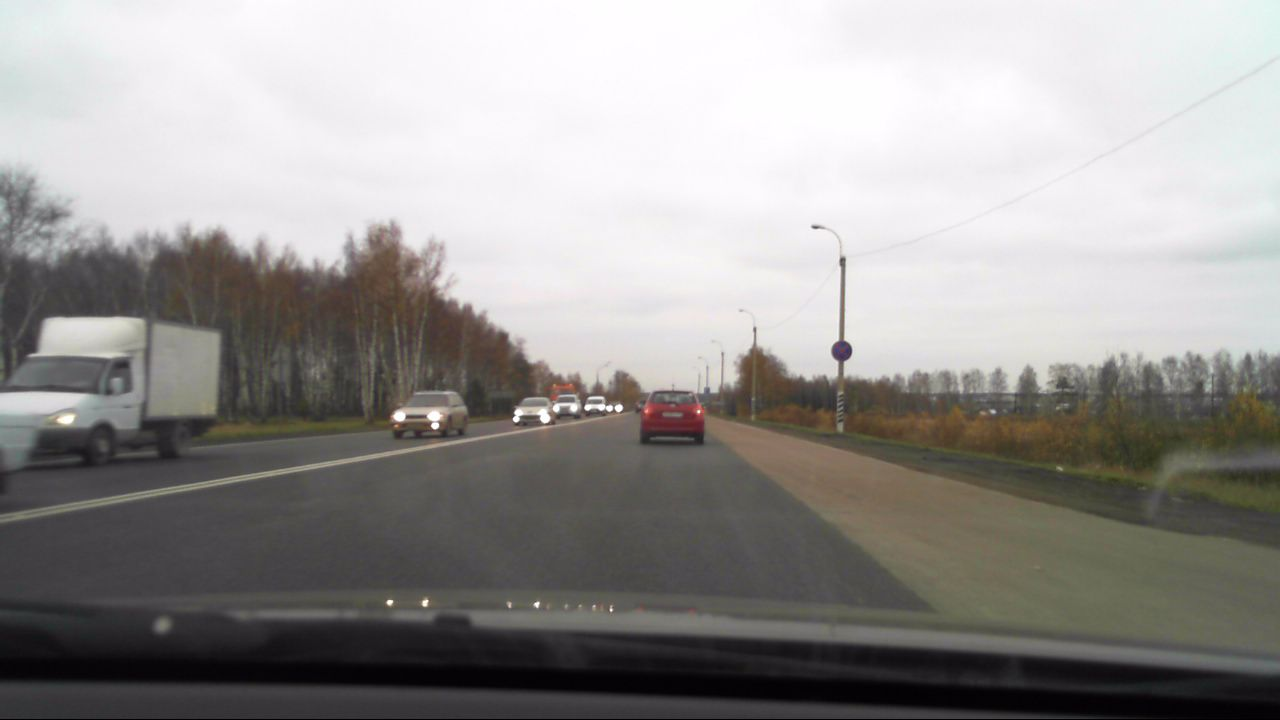No Parking: (829, 338, 854, 363)
